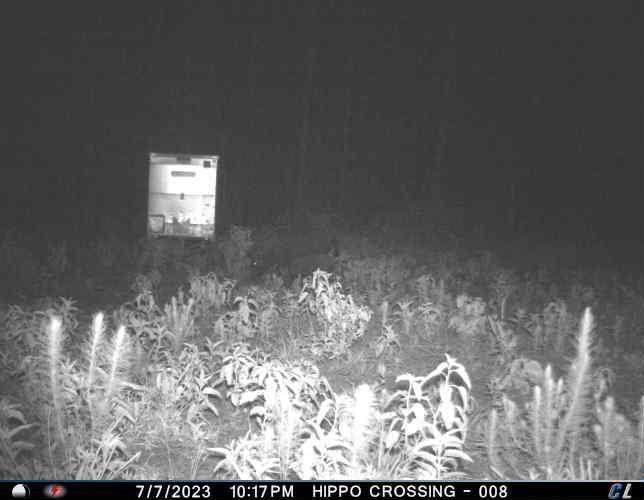Hog: (249, 223, 341, 283)
